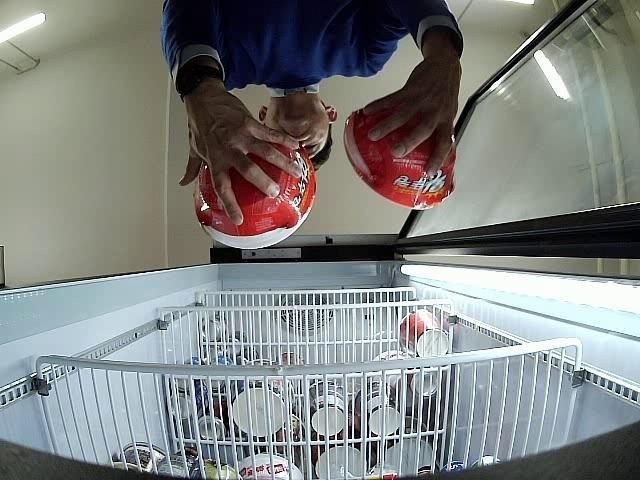10_wangTtukkeong: (193, 140, 317, 248), (344, 104, 456, 210)
